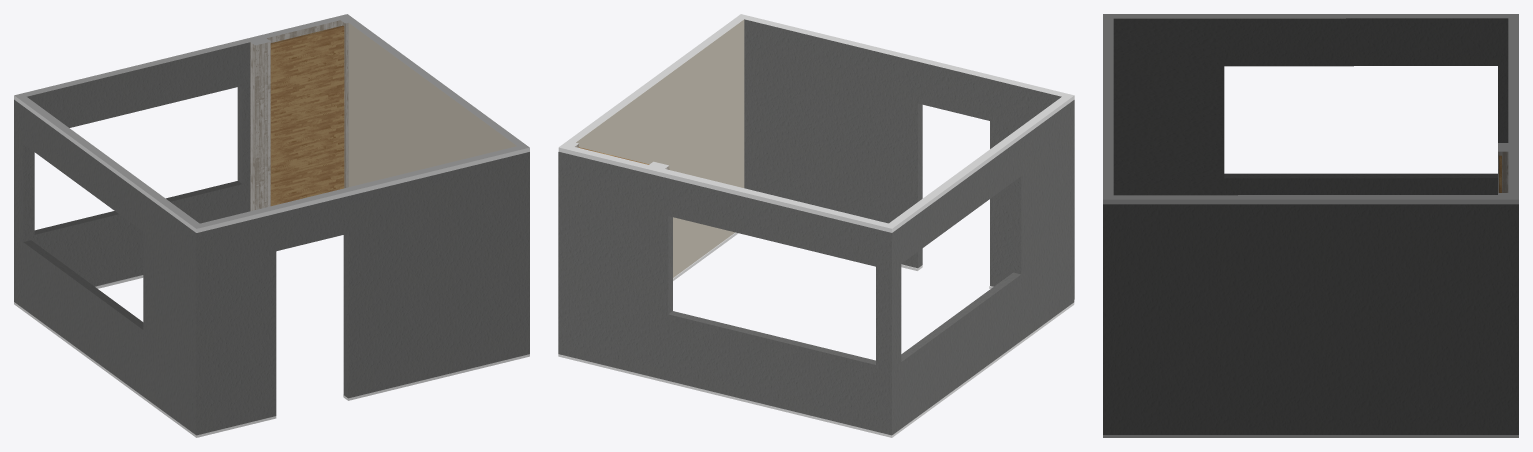
Rendered from FP320:StandardWallSize_017_2dcdeaed.obj.
3 views of the same model, side by side, from view 1: azimuth 30°, elevation 25°; view 2: azimuth 150°, elevation 25°; view 3: azimuth 270°, elevation 25° (orthographic). The views are drawn at different scales.
Visible parts, largest first — view 1: FP320:StandardWallSize.017_2dcdeaed; view 2: FP320:StandardWallSize.017_2dcdeaed; view 3: FP320:StandardWallSize.017_2dcdeaed.
Part boxes in pixels (x1=…): FP320:StandardWallSize.017_2dcdeaed: x1=14, y1=14, x2=529, y2=437; FP320:StandardWallSize.017_2dcdeaed: x1=558, y1=14, x2=1074, y2=437; FP320:StandardWallSize.017_2dcdeaed: x1=1103, y1=14, x2=1518, y2=437.
Bounding box in the file's own units: 4.17 × 2.5 × 3.95.
